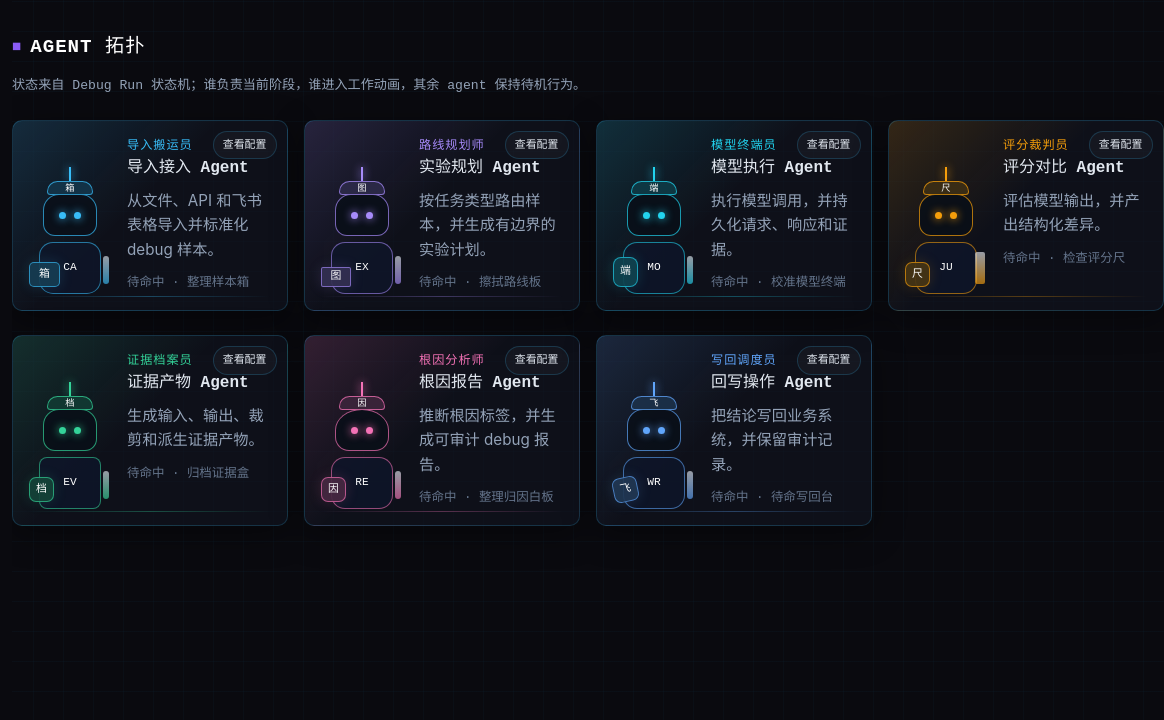
AgentTopologyPanel › opens the configuration drawer for 导入接入 Agent
Click the button "查看配置" next to "导入搬运员" at [245, 145], box 213,131 -> 277,159
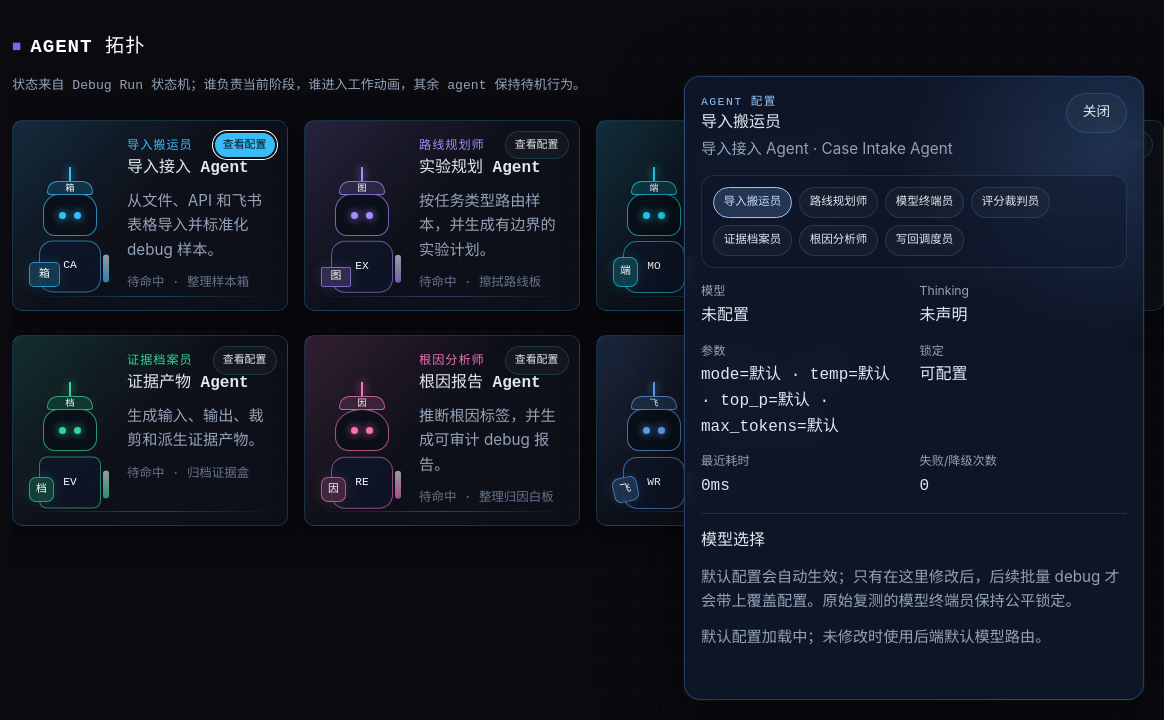
Result: the element named "Agent 配置抽屉" is shown at 684,76 -> 1144,700
Result: the heading "导入搬运员" is shown at 701,114 -> 781,132
Result: the text "导入接入 Agent · Case Intake Agent" is shown at 701,137 -> 953,161
